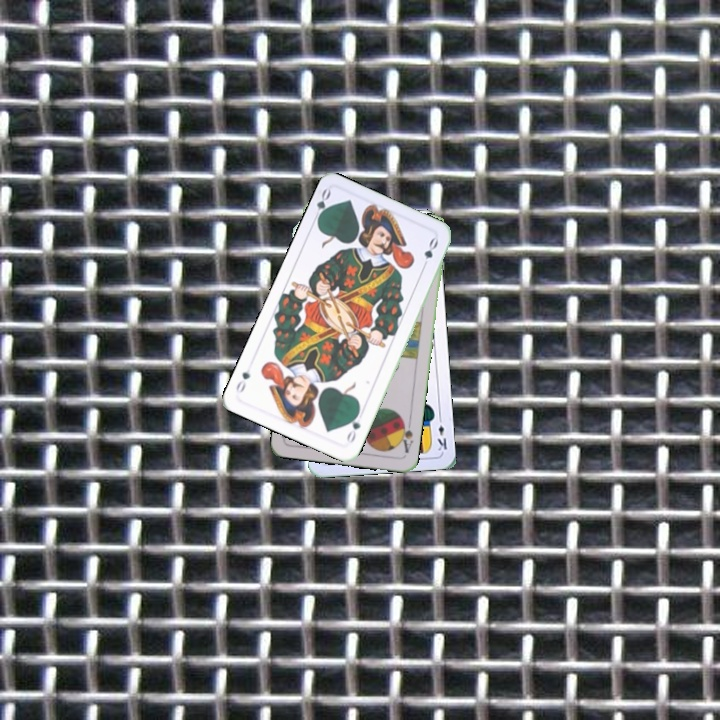EK: (434, 412, 449, 453)
GO: (309, 185, 333, 226), (343, 407, 363, 445)
SA: (395, 415, 416, 456)
